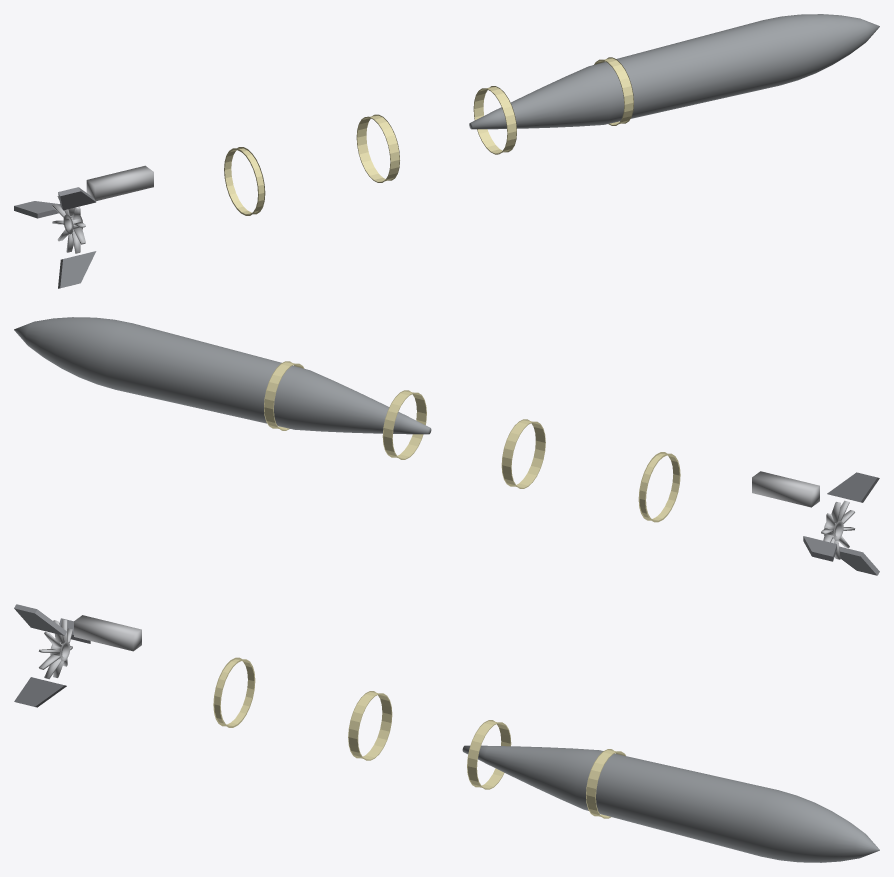
File: IN_TORP_Varunastra_LOD1.fbx
3 renders of one model, top to bottom at view 1: azimuth 30°, elevation 25°; view 2: azimuth 150°, elevation 25°; view 3: azimuth 330°, elevation 25°, orthographic.
Parts seen in each view (by area): view 1: WPN_IN_TORP_Varunastra_LOD1_Body, WPN_IN_TORP_Varunastra_LOD1_Marking, WPN_IN_TORP_Varunastra_LOD1_Fins, WPN_IN_TORP_Varunastra_LOD1_Detail, WPN_IN_TORP_Varunastra_LOD1_Propulsor; view 2: WPN_IN_TORP_Varunastra_LOD1_Body, WPN_IN_TORP_Varunastra_LOD1_Marking, WPN_IN_TORP_Varunastra_LOD1_Fins, WPN_IN_TORP_Varunastra_LOD1_Detail, WPN_IN_TORP_Varunastra_LOD1_Propulsor; view 3: WPN_IN_TORP_Varunastra_LOD1_Body, WPN_IN_TORP_Varunastra_LOD1_Marking, WPN_IN_TORP_Varunastra_LOD1_Fins, WPN_IN_TORP_Varunastra_LOD1_Detail, WPN_IN_TORP_Varunastra_LOD1_Propulsor.
Boxes of the visible parts, <box> form: WPN_IN_TORP_Varunastra_LOD1_Body: <box>469,14,879,129</box>; WPN_IN_TORP_Varunastra_LOD1_Marking: <box>224,57,633,215</box>; WPN_IN_TORP_Varunastra_LOD1_Fins: <box>14,187,96,288</box>; WPN_IN_TORP_Varunastra_LOD1_Detail: <box>86,165,153,201</box>; WPN_IN_TORP_Varunastra_LOD1_Propulsor: <box>52,195,85,253</box>; WPN_IN_TORP_Varunastra_LOD1_Body: <box>14,317,431,434</box>; WPN_IN_TORP_Varunastra_LOD1_Marking: <box>264,361,680,522</box>; WPN_IN_TORP_Varunastra_LOD1_Fins: <box>803,472,879,575</box>; WPN_IN_TORP_Varunastra_LOD1_Detail: <box>752,471,819,507</box>; WPN_IN_TORP_Varunastra_LOD1_Propulsor: <box>821,500,855,559</box>; WPN_IN_TORP_Varunastra_LOD1_Body: <box>462,745,879,862</box>; WPN_IN_TORP_Varunastra_LOD1_Marking: <box>213,657,625,818</box>; WPN_IN_TORP_Varunastra_LOD1_Fins: <box>14,604,90,707</box>; WPN_IN_TORP_Varunastra_LOD1_Detail: <box>74,615,141,651</box>; WPN_IN_TORP_Varunastra_LOD1_Propulsor: <box>38,619,72,679</box>.
Size of the model in its own units: 7.6 by 0.7478 by 0.8411.
